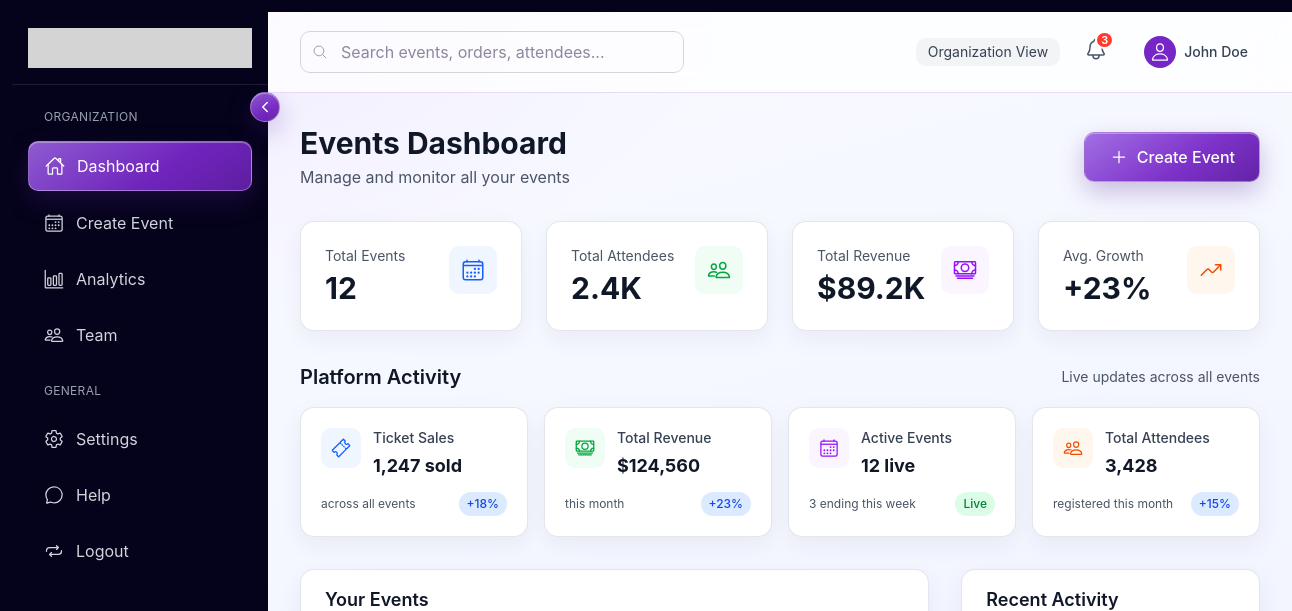
Test case: App core flows › opens profile as a full dashboard page from top bar
The image size is (1292, 611).
Click the button "John Doe": coordinates (1196, 52) [1132,28,1260,76]
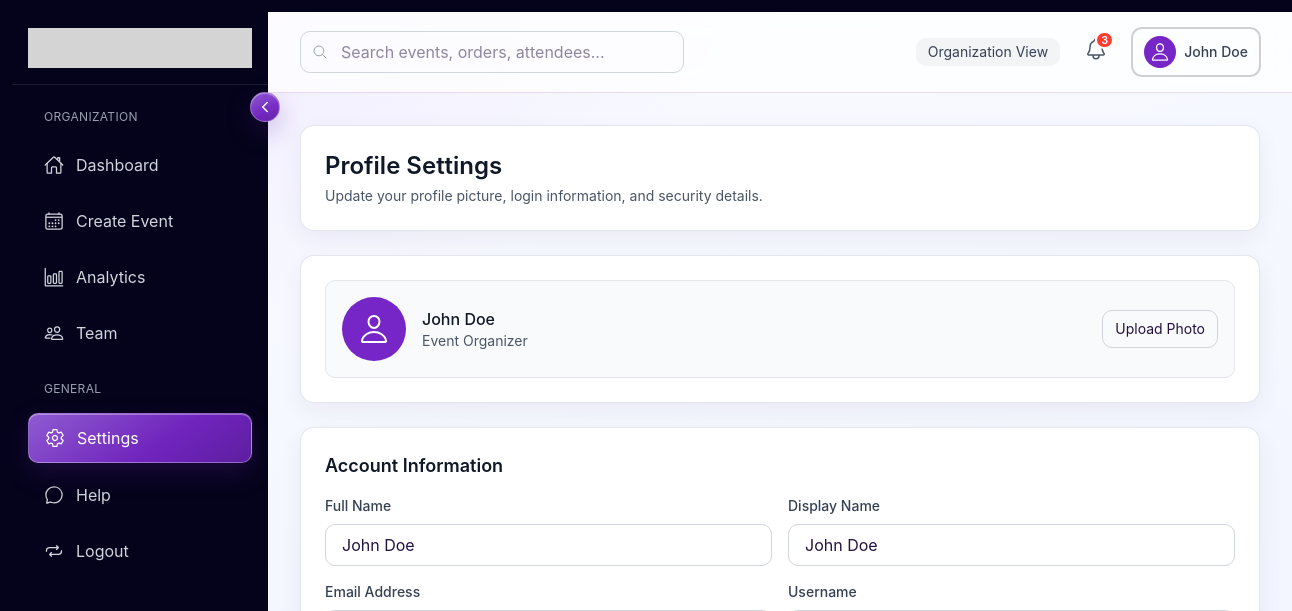
expect the heading "Profile Settings" is shown: met, box [325,151,502,180]
expect the text "Update your profile picture, login information, and security details" is shown: met, box [325,187,763,204]
